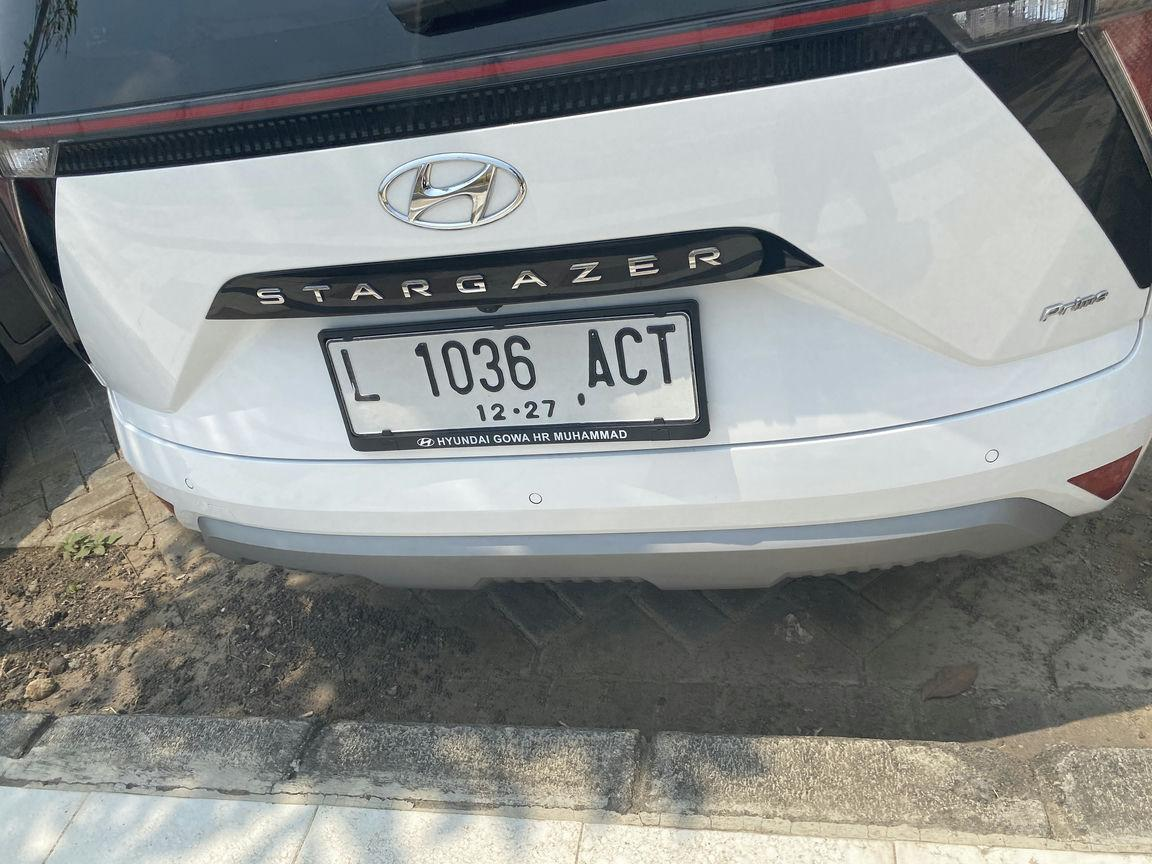plat: (325, 304, 709, 450)
